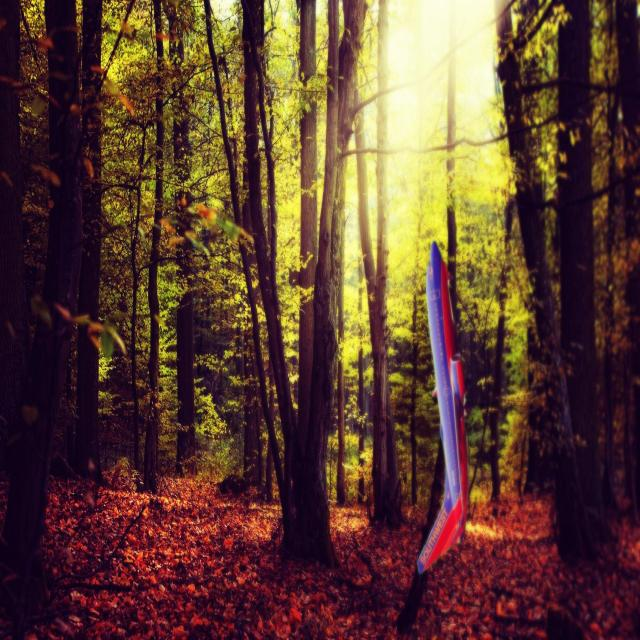airplane: (416, 240, 469, 576)
